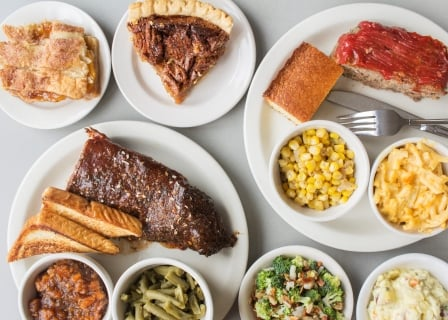burger: (330, 84, 448, 139)
curry: (254, 255, 341, 319)
sushi: (26, 120, 250, 318), (110, 0, 258, 128), (0, 2, 113, 130), (269, 120, 370, 223), (236, 244, 356, 320), (367, 136, 448, 239), (14, 253, 115, 319), (109, 258, 214, 319), (355, 252, 448, 318)
